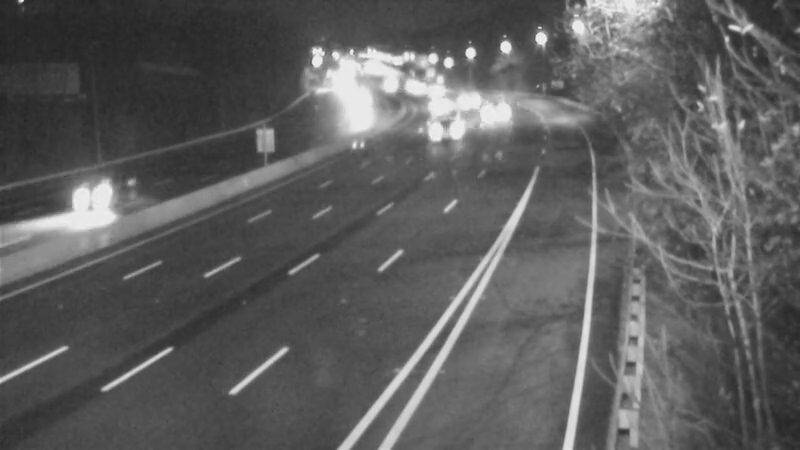vehicle: (59, 148, 139, 228), (445, 72, 495, 122), (417, 81, 467, 131), (475, 81, 525, 131), (426, 100, 476, 150)
